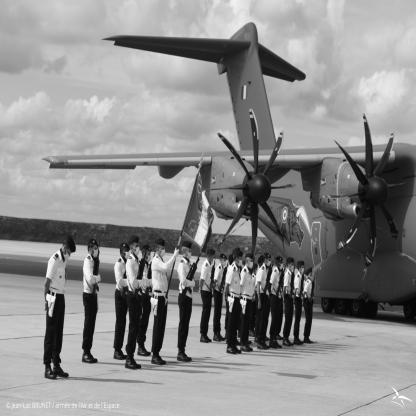A400M: (42, 23, 416, 322)
